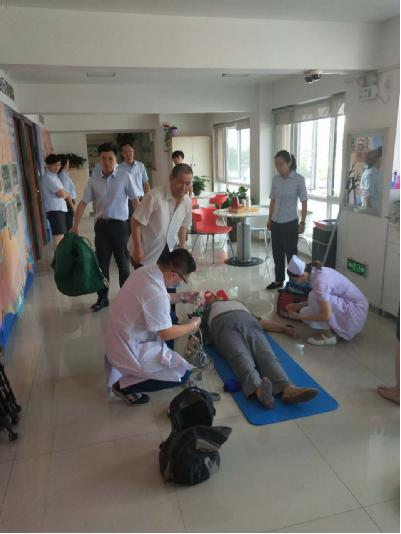fall: (183, 276, 313, 415)
